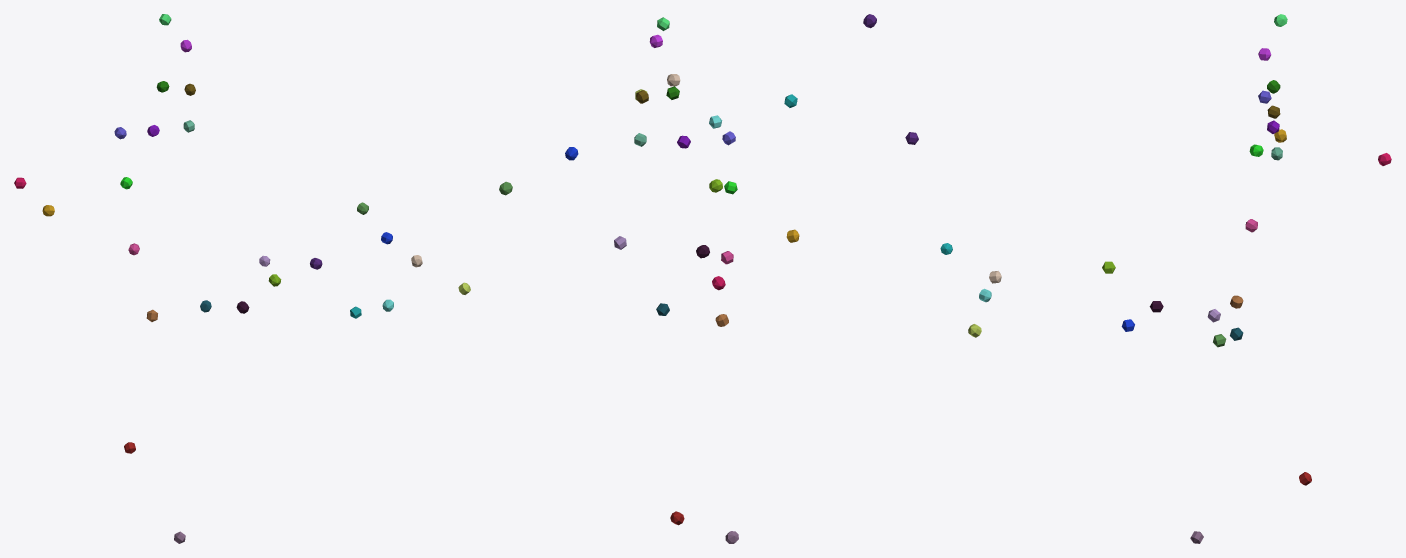
Rendered from fg-00010-bone.obj.
The picture shows the model from 3 angles, left to right: view 1: azimuth 30°, elevation 25°; view 2: azimuth 150°, elevation 25°; view 3: azimuth 270°, elevation 25°; orthographic projection. The views are drawn at different scales.
Size of the model in its own units: 0.2655 by 0.4242 by 0.3447.
